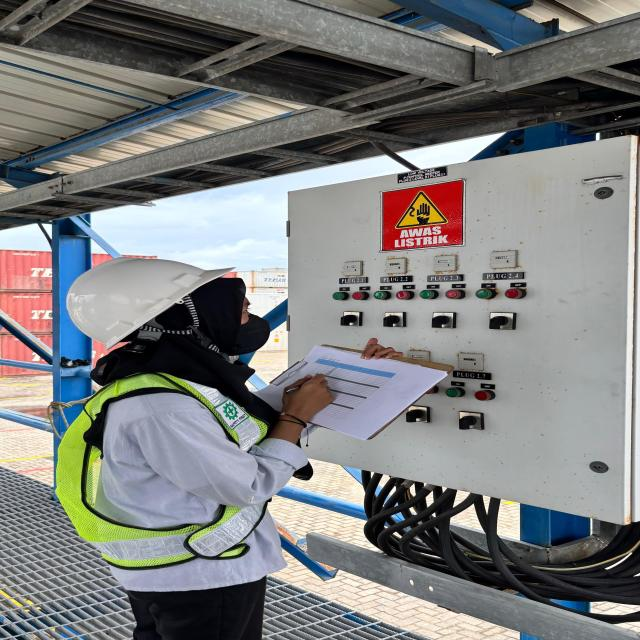safetyhelmet: (52, 256, 302, 393)
